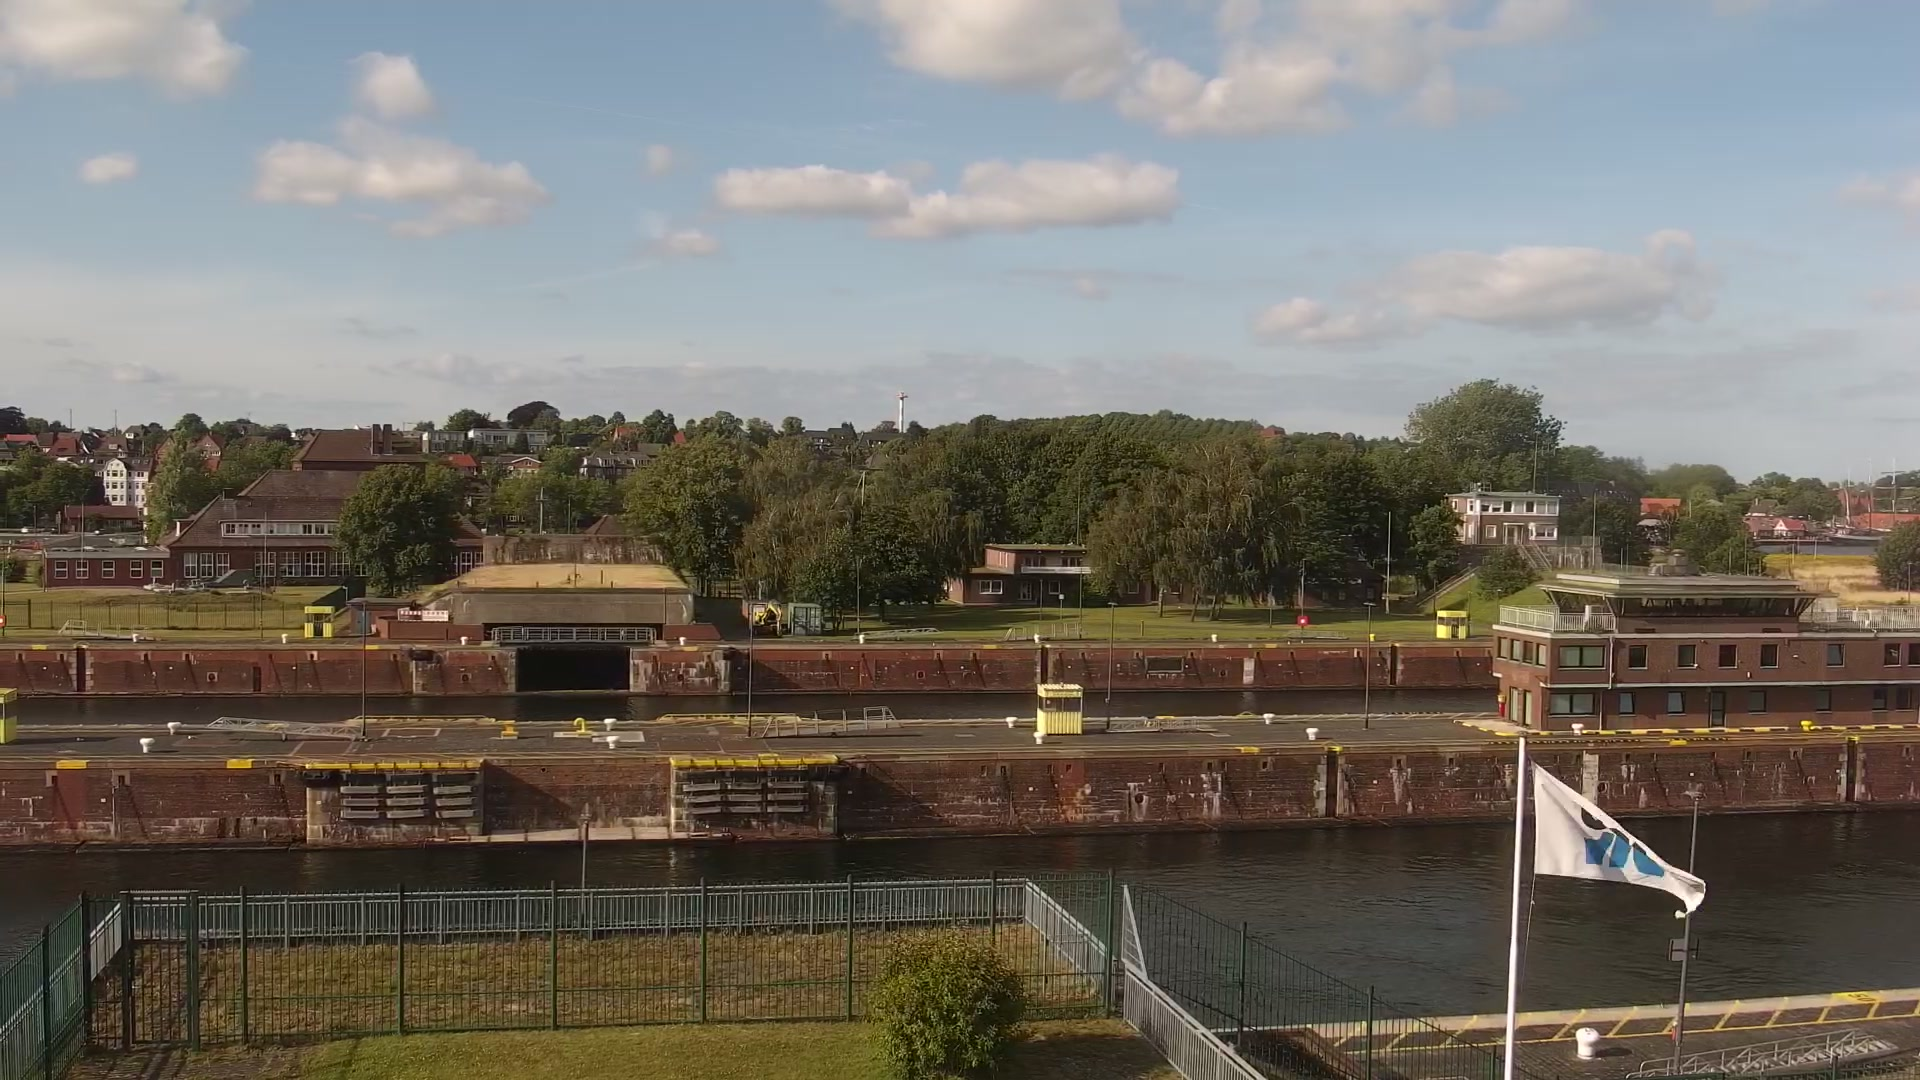land: (750, 597, 781, 636)
sea: (1828, 458, 1905, 545)
